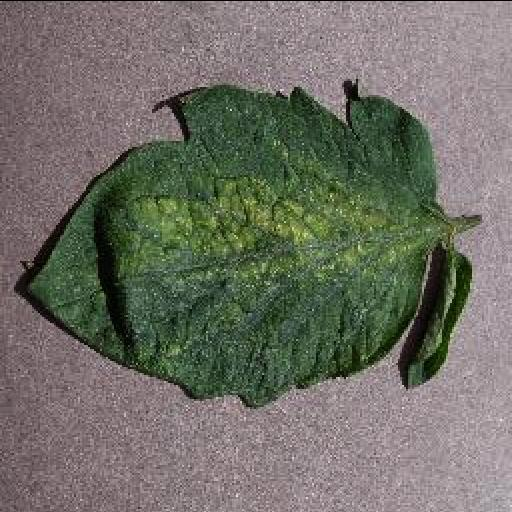disease_tomato: (14, 82, 472, 406)
